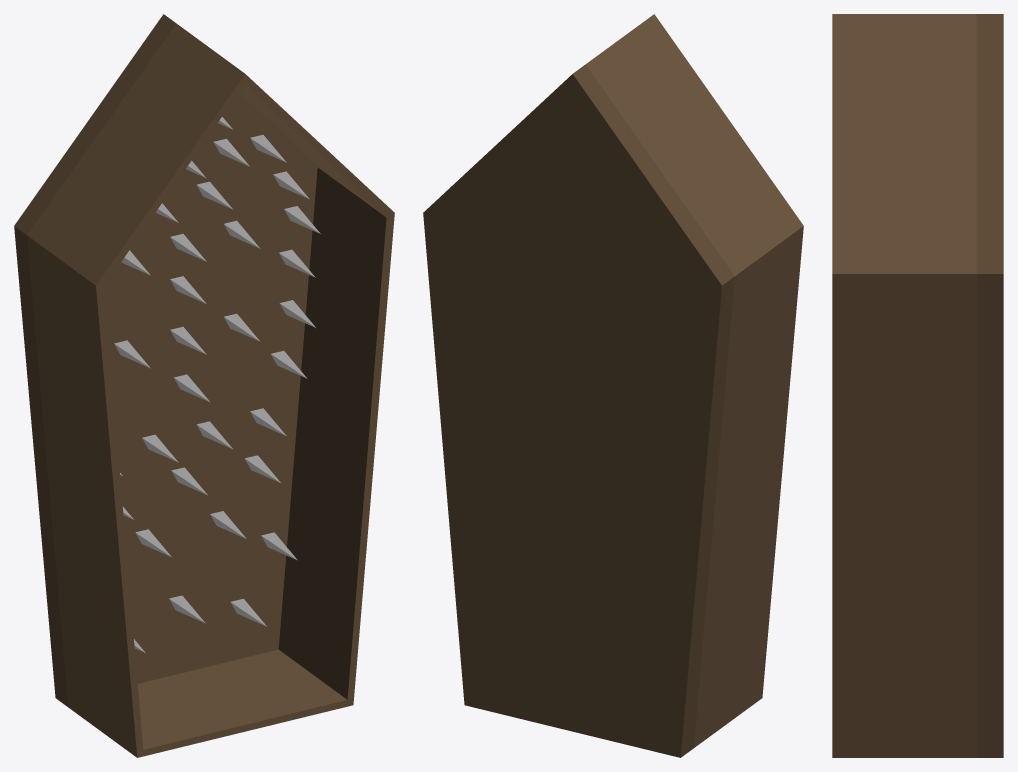
The model's file is Iron Maiden.glb.
The picture shows the model from 3 angles, left to right: view 1: azimuth 30°, elevation 25°; view 2: azimuth 150°, elevation 25°; view 3: azimuth 270°, elevation 25°; orthographic projection. The views are drawn at different scales.
Visible parts, largest first — view 1: Iron Maiden; view 2: Iron Maiden; view 3: Iron Maiden.
Boxes of the visible parts, left/top/right/bottom form: Iron Maiden: left=14, top=14, right=394, bottom=757; Iron Maiden: left=423, top=14, right=803, bottom=757; Iron Maiden: left=832, top=14, right=1003, bottom=757.
Size of the model in its own units: 0.9748 by 2.05 by 0.462.
